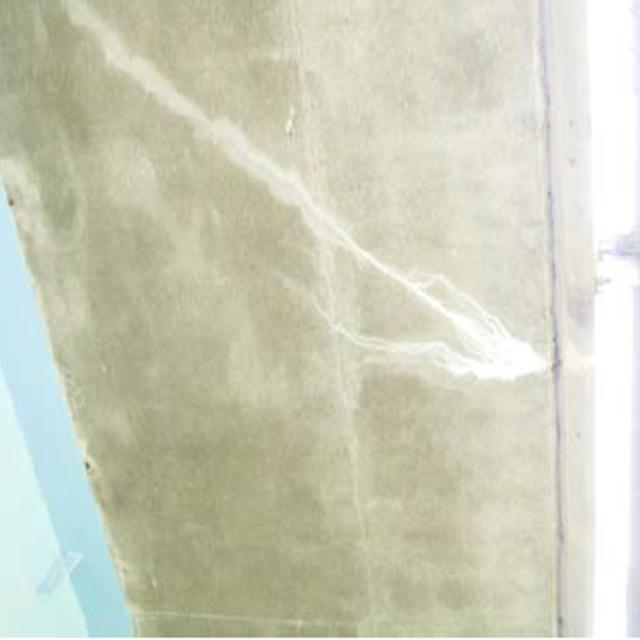freelime: (314, 204, 549, 407)
